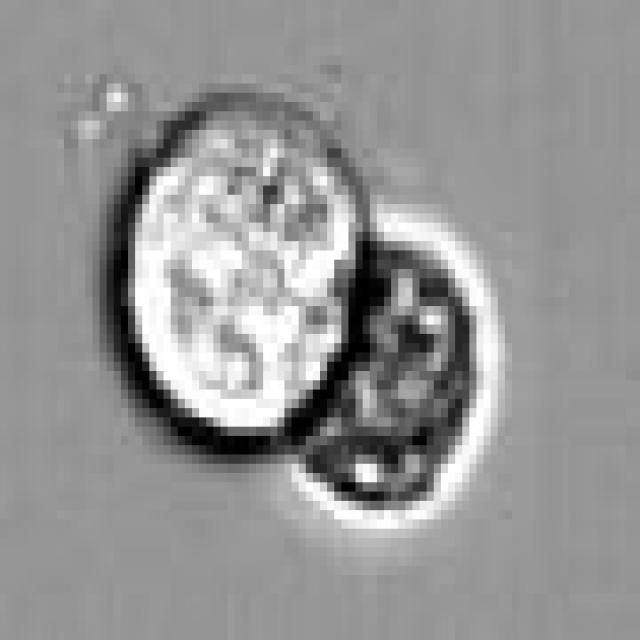Cancer Cell: (114, 93, 362, 436)
WBC: (263, 232, 491, 519)
